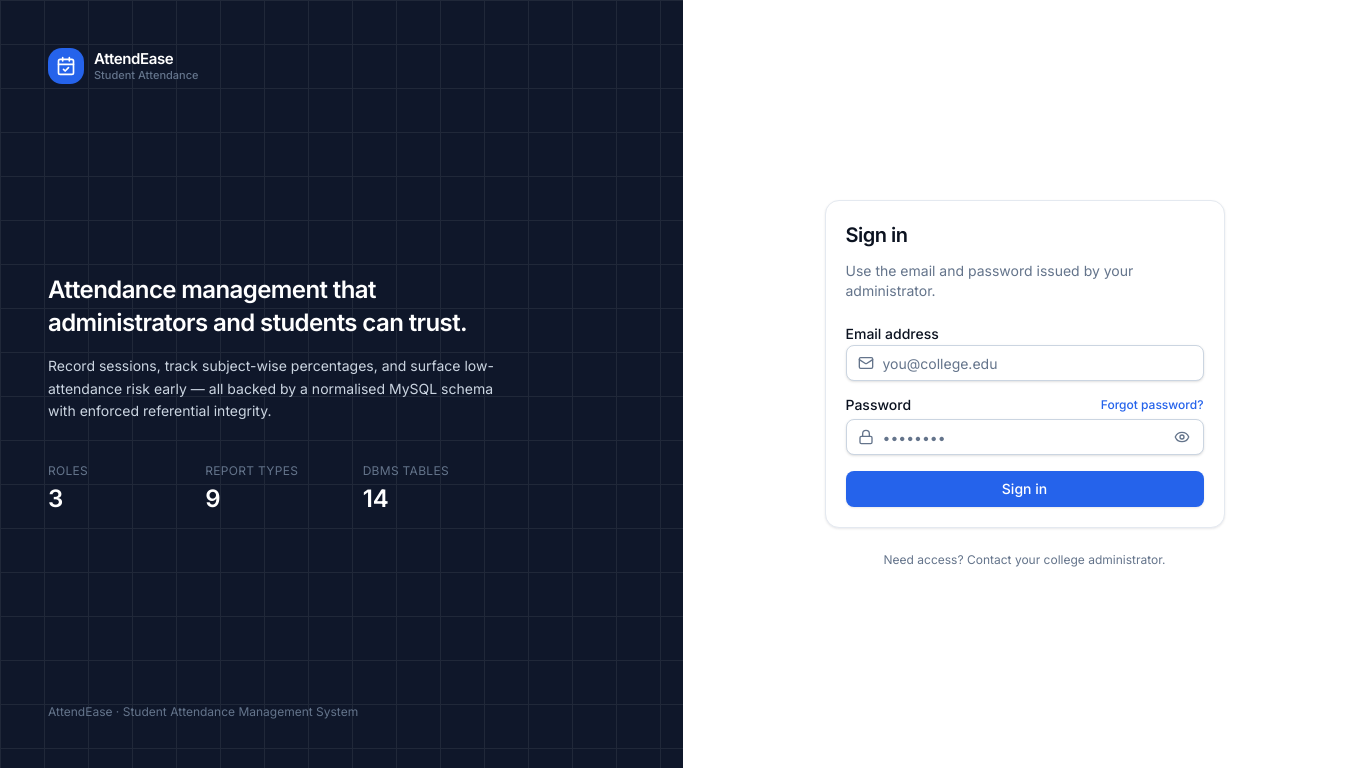
it: Login page › requires a password
Type "admin@attendease.test" into the field labelled "Email address".
click(1024, 363); type("admin@attendease.test")  # box [846, 345, 1204, 381]
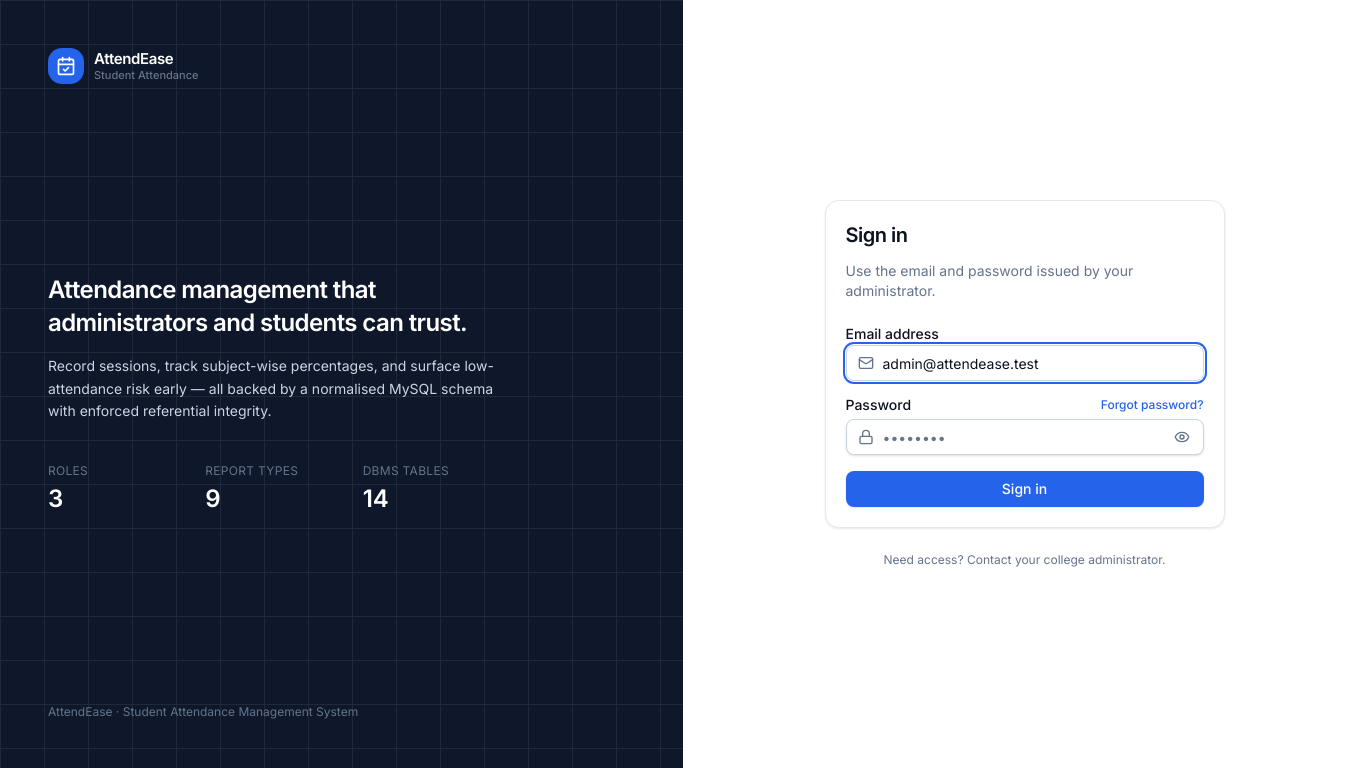
Click the button "Sign in".
click(1024, 489)  # box [846, 471, 1204, 507]
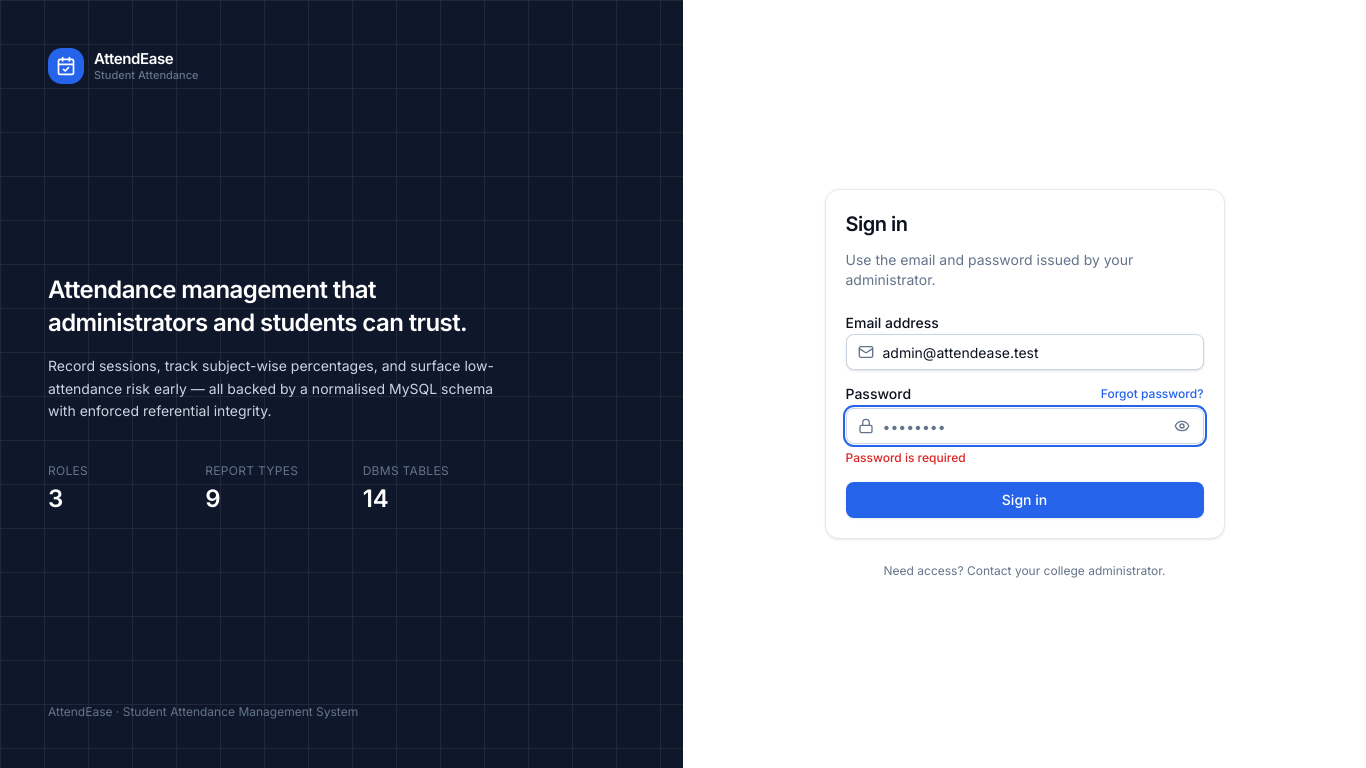
expect the text "Password is required" is shown: met, box [846, 450, 966, 465]
